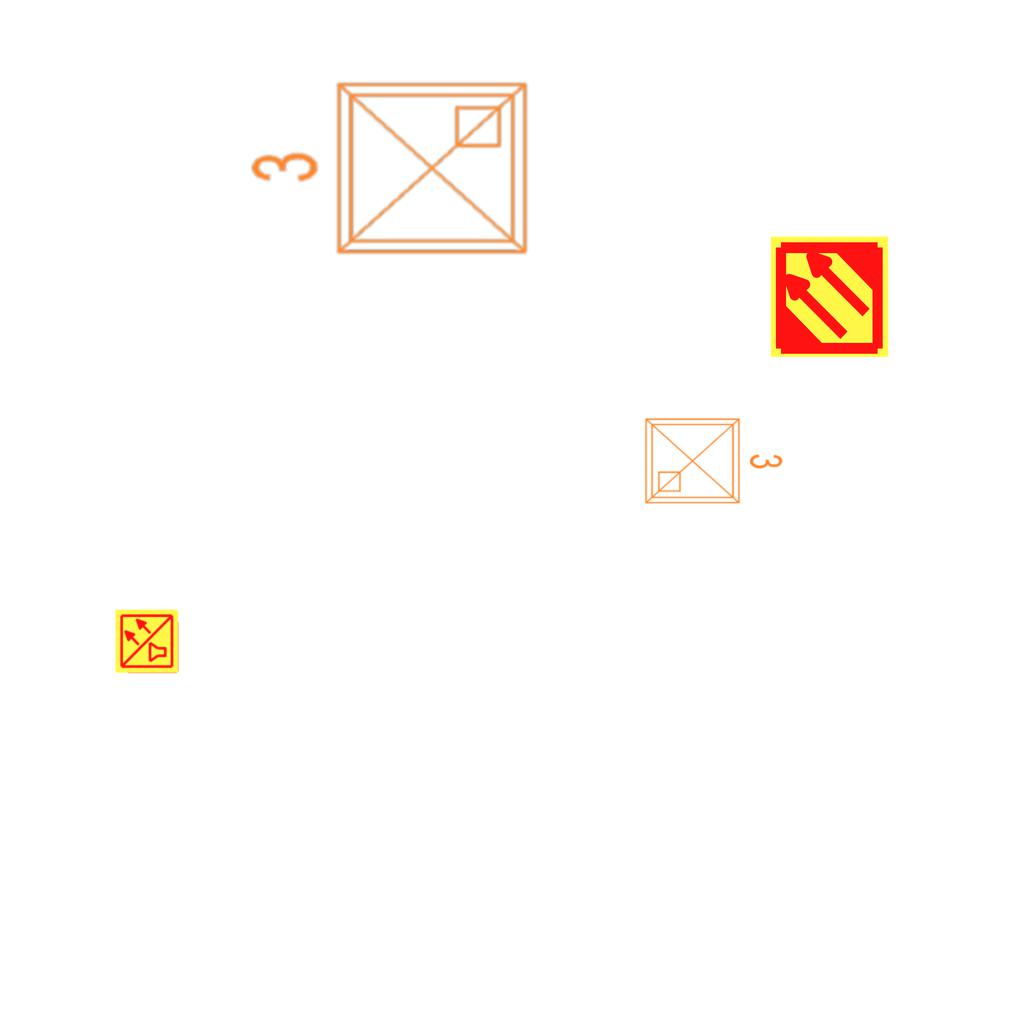ASR_Ansaugrauchmelder: (767, 234, 892, 359)
Einbaudownlights_LED_Konferenzraeume: (241, 68, 541, 276), (638, 407, 788, 511)
OKW_Multisensormelder_(Kombination_optischer_Rauch-Kahlenmonoxid_Waerme-Melder): (114, 608, 180, 674)
